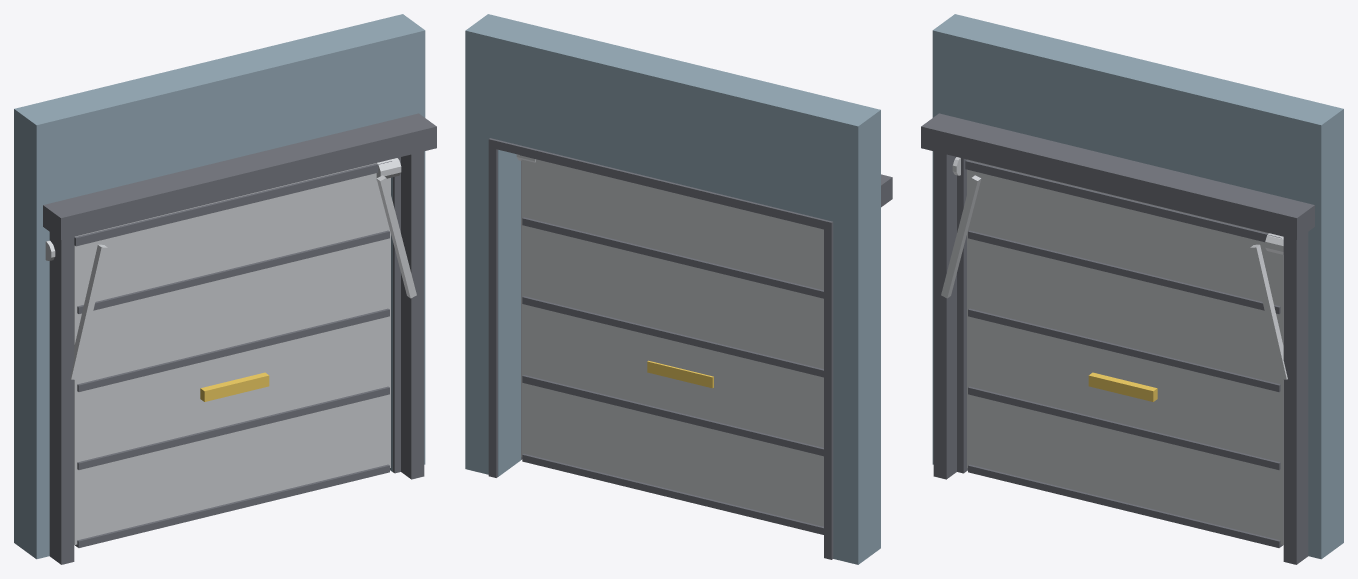
Rendered from garageDoor.glb.
The picture shows the model from 3 angles, left to right: view 1: azimuth 30°, elevation 25°; view 2: azimuth 150°, elevation 25°; view 3: azimuth 330°, elevation 25°; orthographic projection.
Parts seen in each view (by area): view 1: garage-tilt-door, door/steel, door/iron, door/accent; view 2: garage-tilt-door, door/steel, door/iron, door/accent; view 3: garage-tilt-door, door/steel, door/iron, door/accent.
Boxes of the visible parts, x1,y1,x2,y2 form: garage-tilt-door: [14, 14, 436, 564]; door/steel: [74, 163, 390, 544]; door/iron: [74, 161, 391, 547]; door/accent: [200, 372, 269, 401]; garage-tilt-door: [465, 14, 892, 564]; door/steel: [521, 159, 823, 526]; door/iron: [520, 155, 823, 534]; door/accent: [647, 360, 713, 388]; garage-tilt-door: [921, 14, 1343, 564]; door/steel: [967, 159, 1283, 544]; door/iron: [965, 160, 1282, 547]; door/accent: [1088, 372, 1157, 401].
Bounding box in the file's own units: 3 × 3.2 × 0.5601.
